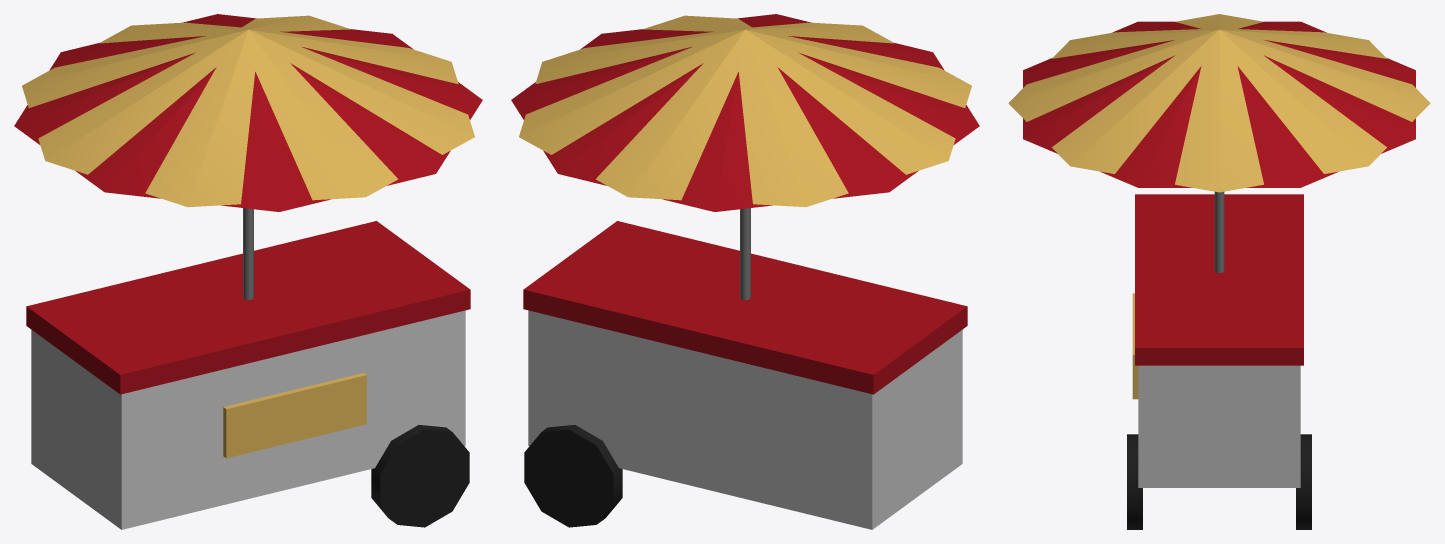
Rendered from cart.glb.
3 renders of one model, left to right at view 1: azimuth 30°, elevation 25°; view 2: azimuth 150°, elevation 25°; view 3: azimuth 270°, elevation 25°, orthographic. The views are drawn at different scales.
Visible parts, largest first — view 1: body; view 2: body; view 3: body.
Part boxes in pixels (x1,y1,x2,y2): body: (14, 14, 482, 529); body: (511, 14, 979, 529); body: (1008, 14, 1430, 529).
Size of what is drawn, in the model's own units: 2.6 by 3 by 2.6.
